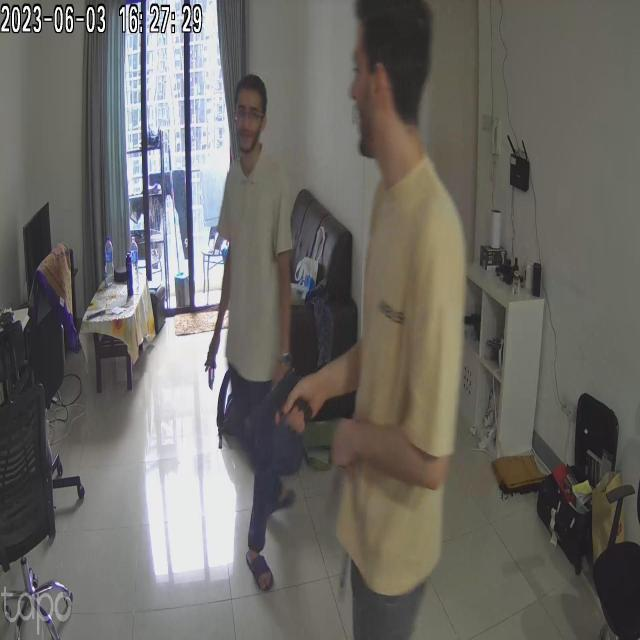Gun: (236, 346, 332, 451)
